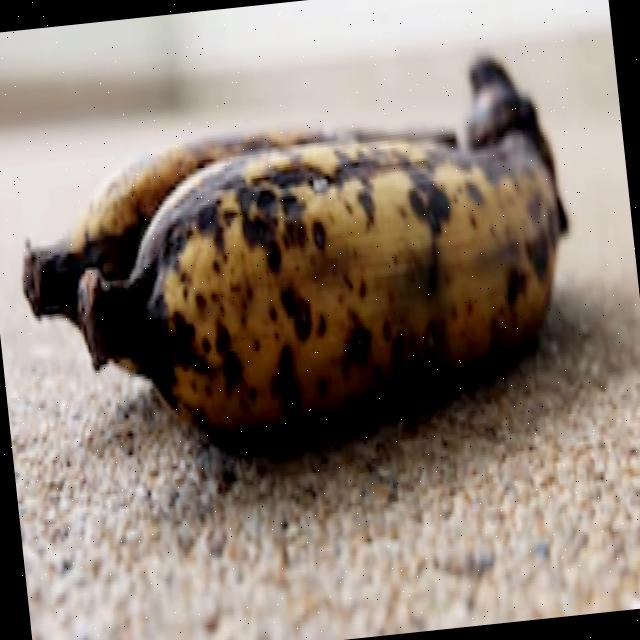rotten banana: (0, 0, 614, 571)
